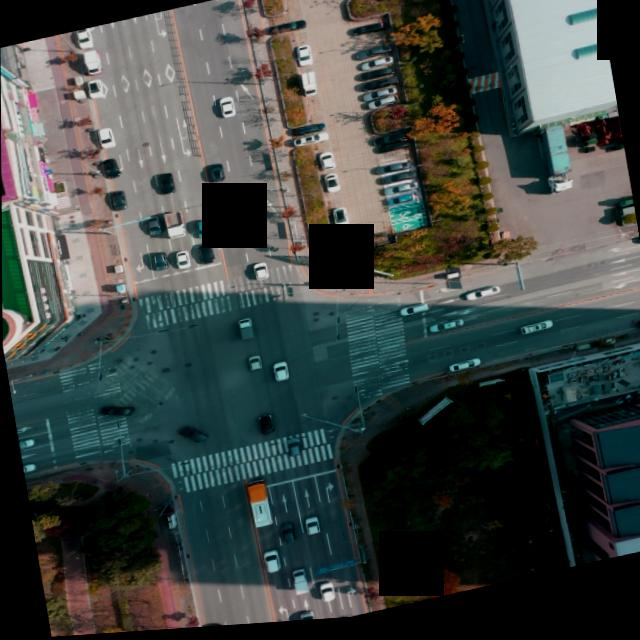car: (176, 423, 210, 450), (365, 134, 409, 154), (265, 21, 308, 41), (358, 78, 400, 98), (458, 290, 499, 309), (354, 47, 397, 65), (375, 162, 418, 180), (98, 402, 136, 422), (299, 72, 324, 102), (350, 23, 389, 42), (380, 184, 421, 202), (356, 58, 395, 76), (379, 174, 418, 192), (153, 172, 177, 200), (427, 321, 464, 339), (291, 123, 328, 141), (361, 90, 398, 108), (375, 142, 412, 160), (292, 135, 327, 154), (358, 70, 398, 86), (288, 569, 309, 598), (93, 125, 116, 151), (521, 324, 556, 341), (447, 363, 482, 380), (254, 413, 276, 439), (293, 45, 314, 71), (368, 98, 401, 114), (385, 196, 416, 213), (331, 209, 352, 234), (249, 263, 273, 284), (398, 307, 429, 323), (100, 157, 120, 181), (86, 78, 106, 101), (262, 552, 281, 576), (273, 361, 293, 383), (196, 243, 215, 266), (109, 190, 128, 213), (218, 98, 237, 121), (284, 439, 303, 462), (319, 153, 338, 176), (145, 214, 162, 239), (318, 584, 337, 606), (322, 176, 341, 198), (280, 523, 297, 545), (195, 220, 212, 241), (245, 356, 263, 374), (305, 519, 322, 538), (175, 250, 191, 270), (154, 252, 169, 273), (78, 28, 94, 47), (212, 165, 227, 184), (298, 613, 316, 625), (200, 622, 227, 630)
large_bus: (244, 478, 276, 531)
small_truck: (161, 209, 185, 242), (232, 318, 257, 344), (83, 49, 104, 78)
